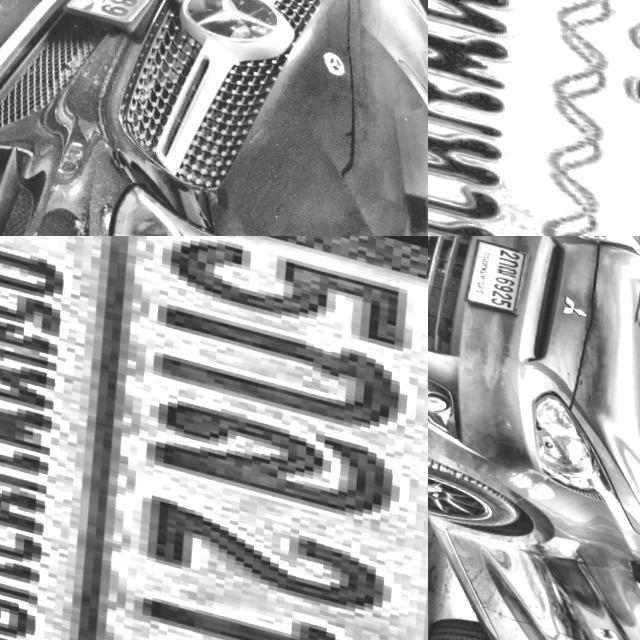license-plate: (0, 236, 428, 640), (428, 0, 640, 236), (451, 236, 531, 316), (47, 0, 197, 35)
